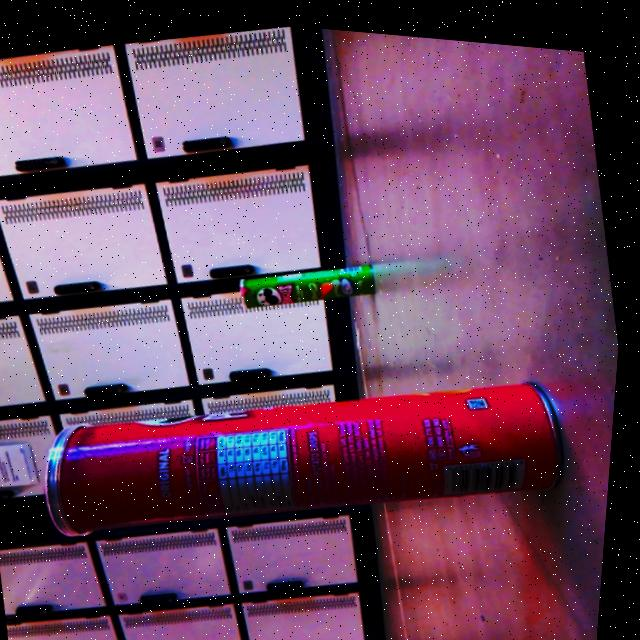greenpringles: (223, 233, 398, 332)
redpringles: (16, 300, 595, 591)
